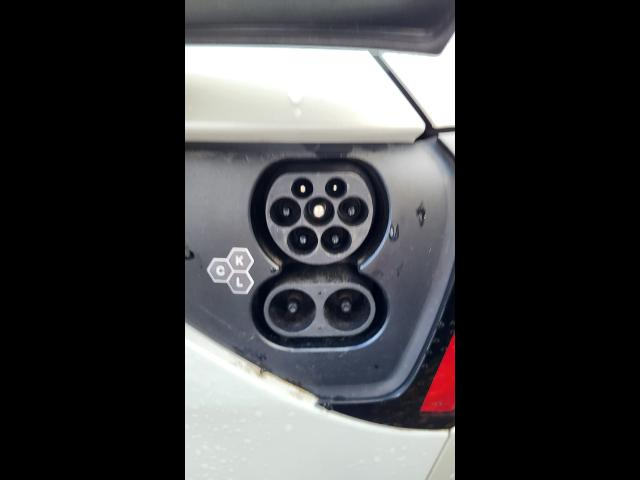inlet: (266, 171, 373, 265)
inlet-above-left: (291, 178, 313, 199)
inlet-above-right: (325, 178, 348, 199)
inlet-below-left: (287, 227, 318, 256)
inlet-below-right: (321, 226, 352, 255)
inlet-circle: (303, 198, 334, 227)
inlet-circle-left: (269, 198, 301, 227)
inlet-circle-right: (338, 197, 369, 226)
inlet-minus: (323, 288, 370, 331)
inlet-plus: (269, 289, 316, 332)
